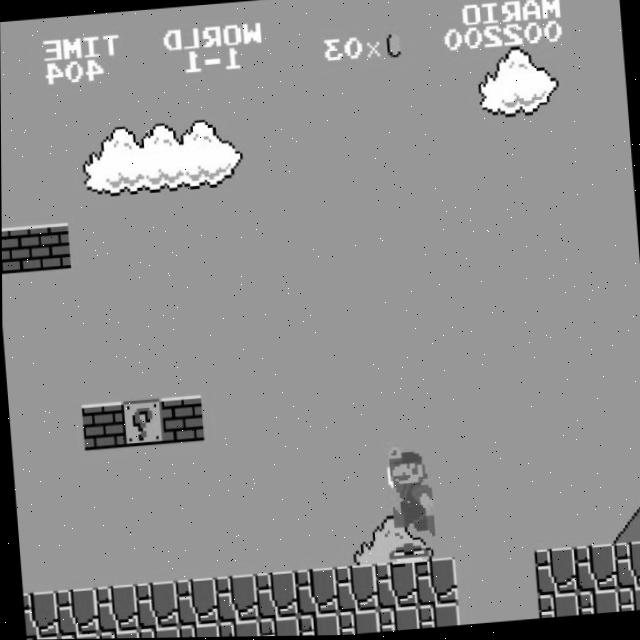0- big_mario: (387, 442, 437, 540)
1- brick_block: (159, 395, 204, 444), (80, 401, 124, 451), (26, 223, 71, 271), (1, 225, 31, 273)
13- mystery_block: (120, 398, 164, 448)
17- undestructible_block: (213, 574, 258, 624), (173, 577, 218, 627), (133, 580, 178, 630), (93, 583, 138, 633), (532, 548, 577, 597), (253, 571, 298, 620), (572, 544, 616, 594), (333, 564, 377, 614), (293, 567, 337, 617), (413, 558, 457, 607), (373, 561, 417, 610), (54, 587, 98, 636), (22, 590, 58, 638), (612, 542, 640, 591), (535, 593, 579, 620), (416, 603, 459, 630), (376, 606, 419, 633), (575, 590, 619, 616), (336, 610, 379, 636), (296, 612, 339, 637), (256, 616, 299, 637), (217, 619, 260, 638), (177, 622, 220, 638), (615, 587, 640, 613), (137, 626, 180, 638), (97, 628, 140, 639), (57, 632, 100, 639)
